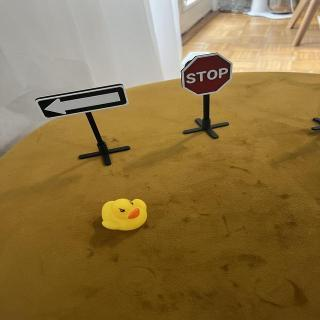duck_regular: (100, 197, 152, 234)
sign_oneway_left: (35, 83, 131, 121)
sign_stop: (181, 53, 234, 98)
